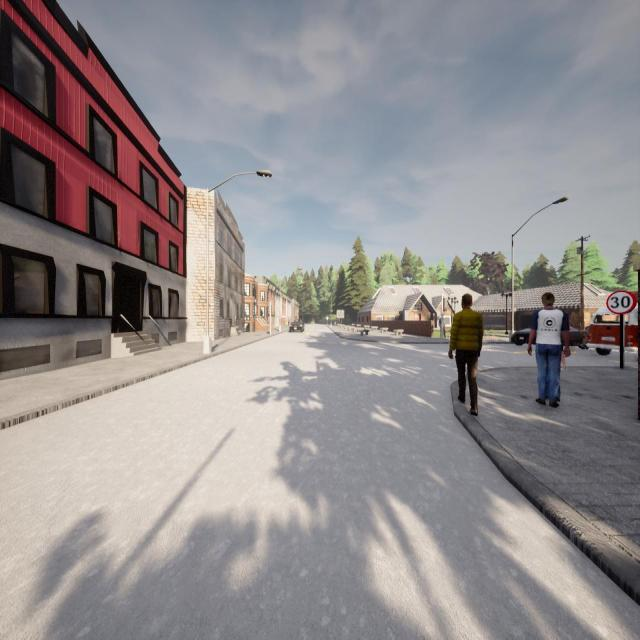Pedestrian: (528, 292, 570, 407), (449, 294, 483, 416), (439, 313, 447, 341)
Traffic_Signs: (606, 290, 638, 315), (326, 316, 329, 320)
Vehicle: (585, 307, 640, 356), (513, 318, 582, 351), (288, 318, 304, 333)
traffic_light: (442, 297, 444, 312), (270, 304, 272, 315)
